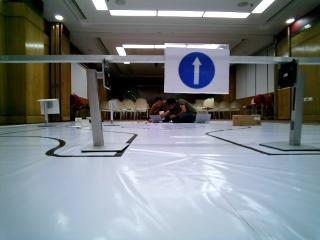straight: (160, 45, 233, 95)
